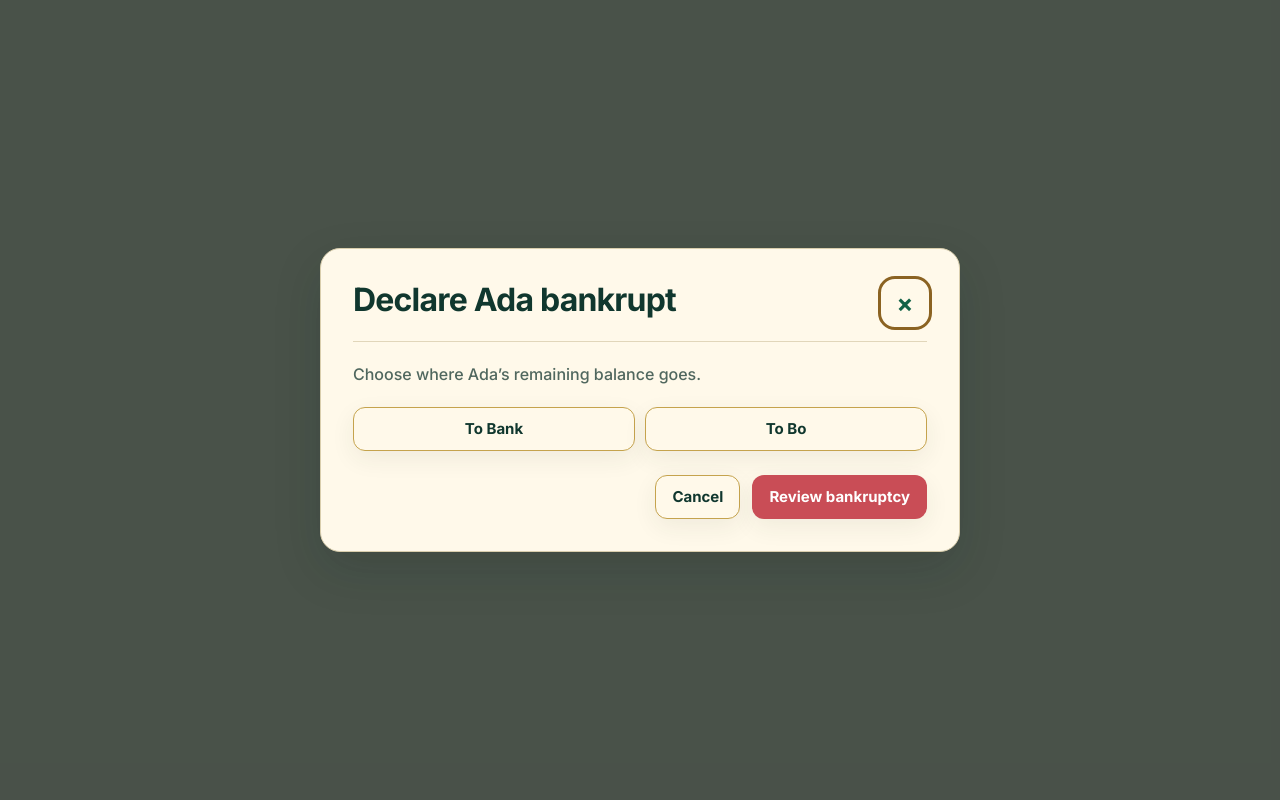
Test: BankruptcyDialog with a board › says the tiles return unmortgaged when the bank is the creditor
Step 1. Click the button "Review bankruptcy" → coordinates (840, 497), box x1=752 y1=475 x2=927 y2=519
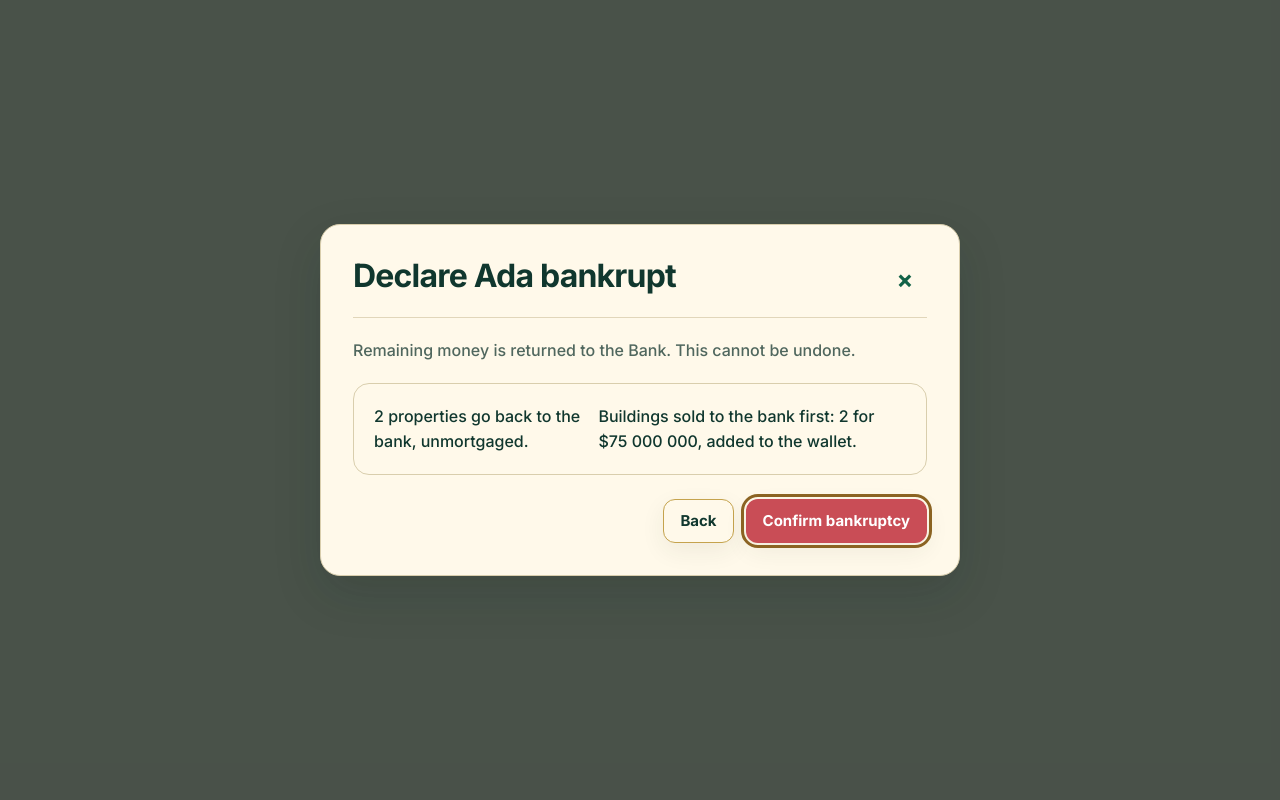
expect the text "2 properties go back to the bank, unmortgaged." is shown: met, box x1=374 y1=404 x2=582 y2=454
